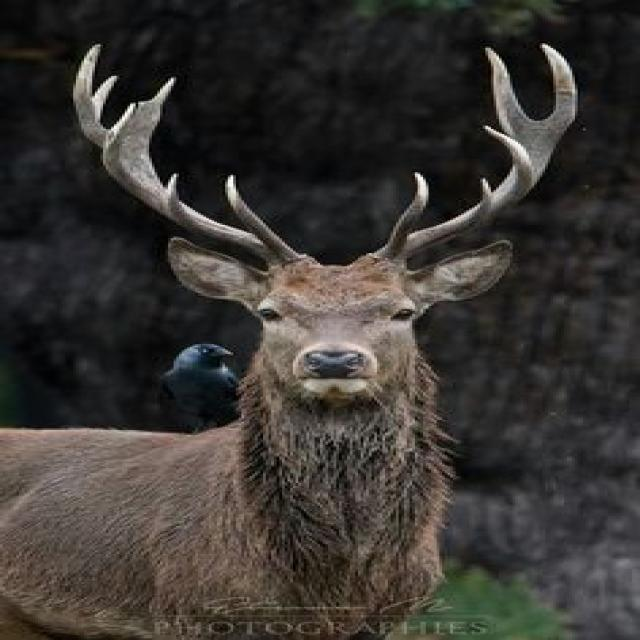Herbivorous: (0, 45, 578, 640)
